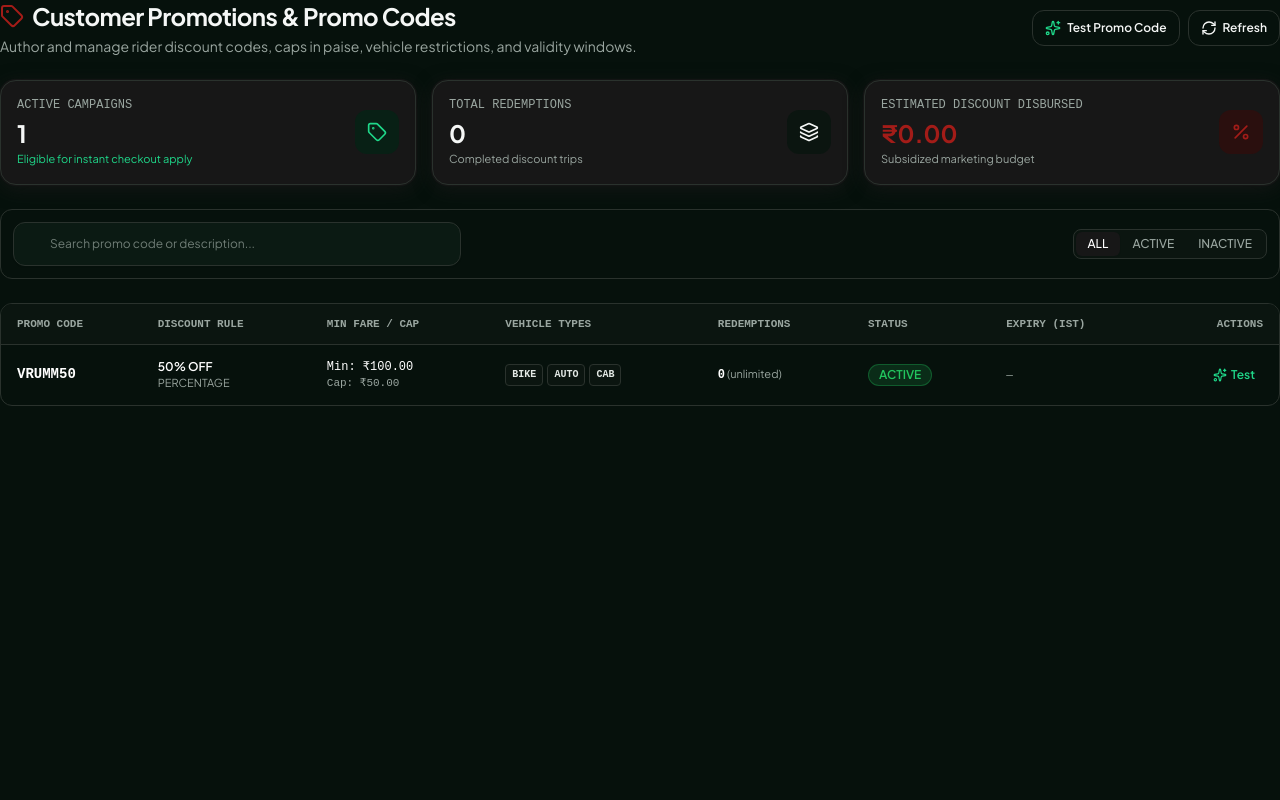
Scenario: PromotionsPage (Customer Promotions & Promo Codes) › opens test promo code validator modal and runs simulated validation
This screenshot has width=1280, height=800.
Expected: the text "VRUMM50" is shown, [17, 366, 76, 382]
Click the button "Test Promo Code" at (1106, 28), box [1032, 10, 1180, 46]
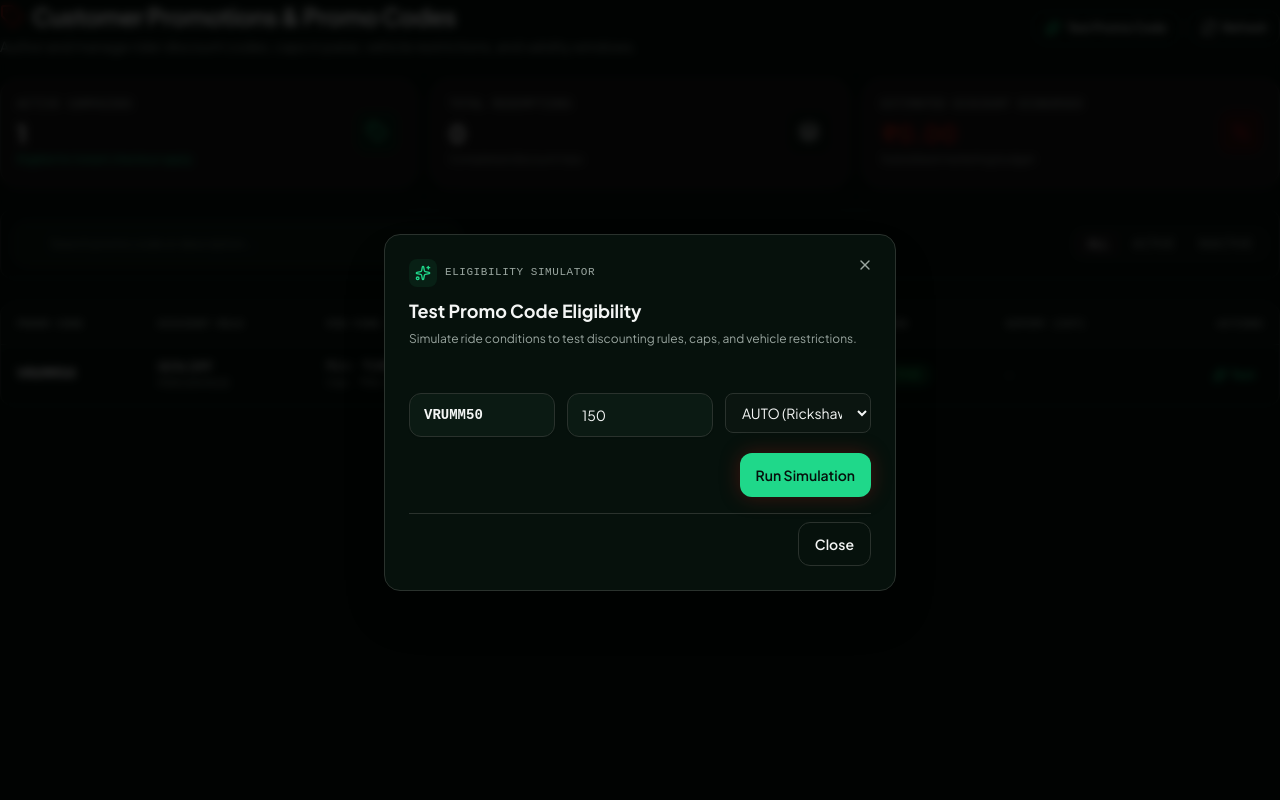
Now the heading "Test Promo Code Eligibility" is shown, box [409, 298, 642, 322]
Click the button "Run Simulation" at (805, 474), box [740, 452, 871, 496]
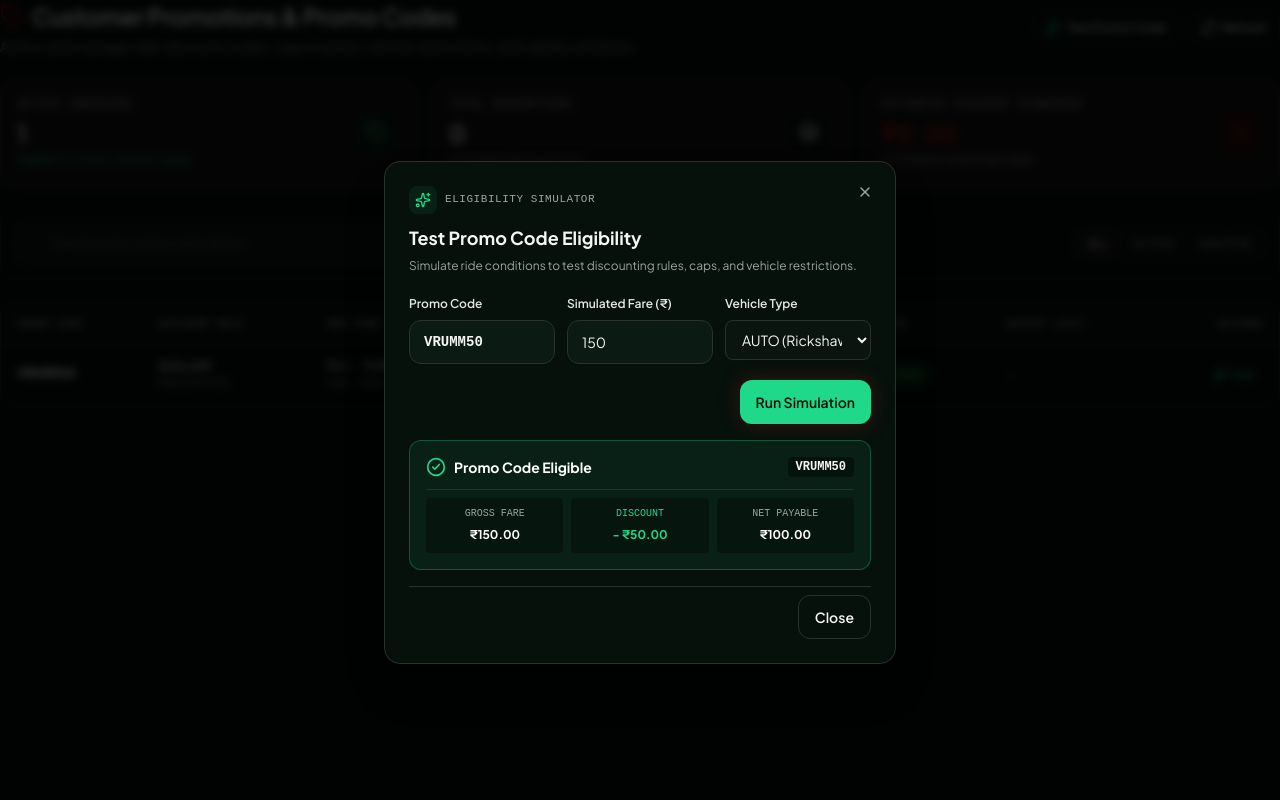
Now the text "Promo Code Eligible" is shown, box [454, 456, 592, 476]
Now the text "- ₹50.00" is shown, box [612, 526, 668, 542]
